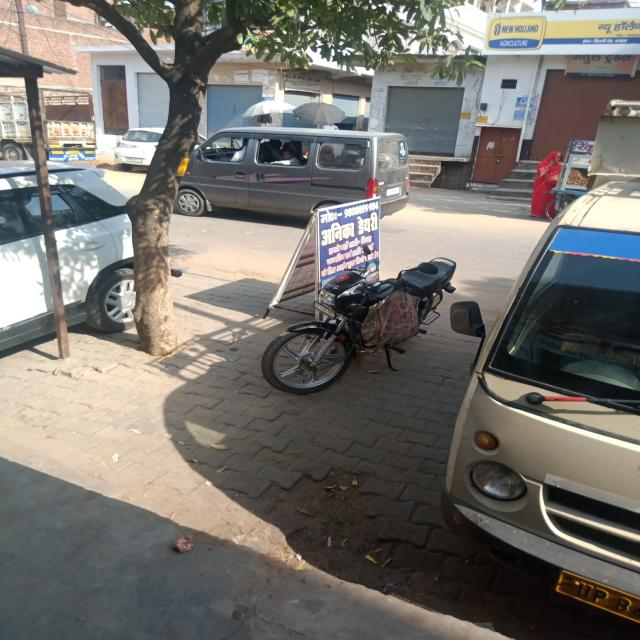Car: (442, 178, 640, 622), (175, 128, 408, 215), (48, 162, 135, 331), (0, 162, 53, 349)
Two Wheeler: (262, 258, 457, 394)
